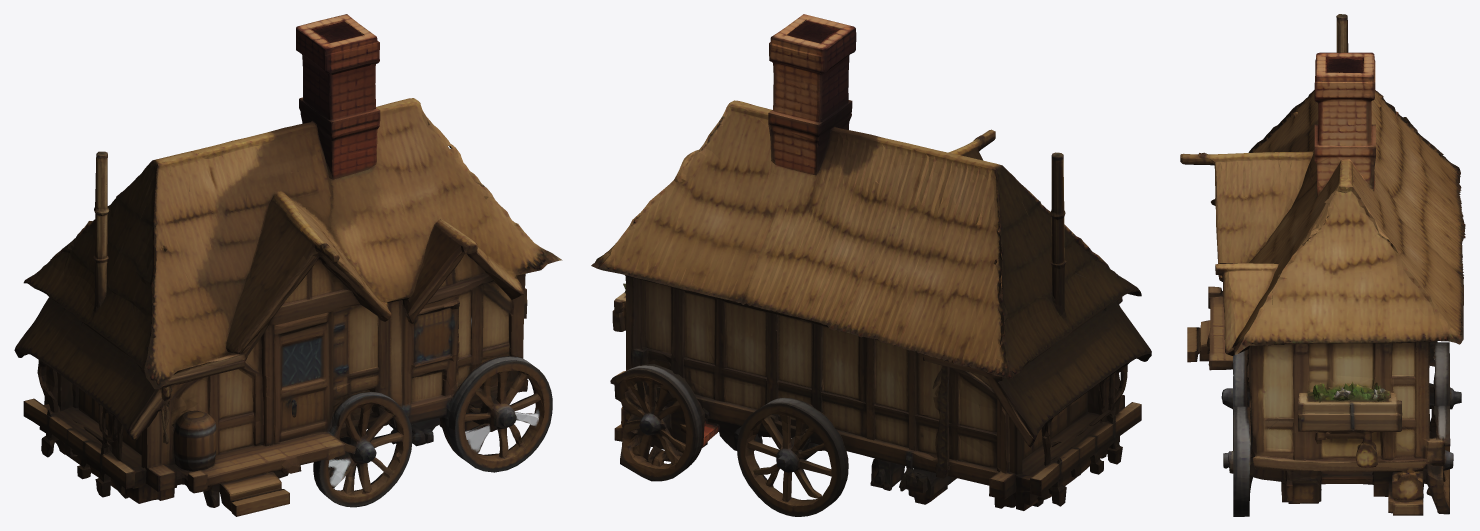
File: casa_carreta.glb
3 renders of one model, left to right at view 1: azimuth 30°, elevation 25°; view 2: azimuth 150°, elevation 25°; view 3: azimuth 270°, elevation 25°, orthographic. The views are drawn at different scales.
Visible parts, largest first — view 1: world; view 2: world; view 3: world.
Boxes of the visible parts, left/top/right/bottom form: world: left=14, top=14, right=562, bottom=516; world: left=591, top=14, right=1151, bottom=516; world: left=1180, top=14, right=1465, bottom=516.
Bounding box in the file's own units: 0.9959 × 0.924 × 0.5983.
Materials: 1 (1 with a texture image).
